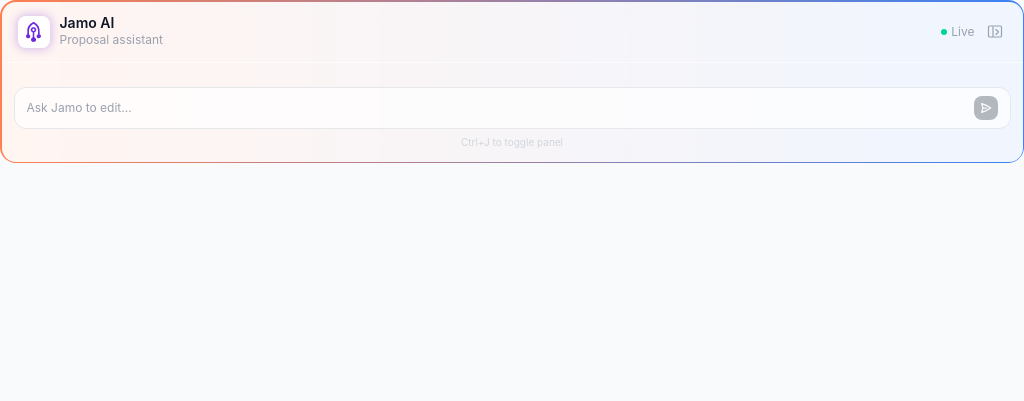
Test: AIChatPanel › renders tool-propose-edit placeholder card on tool_result event
// Submit a message to trigger streaming
Step 1. Type "Rewrite this section" into the field with placeholder "Ask Jamo to edit..." → [496, 108], box [26, 100, 966, 116]
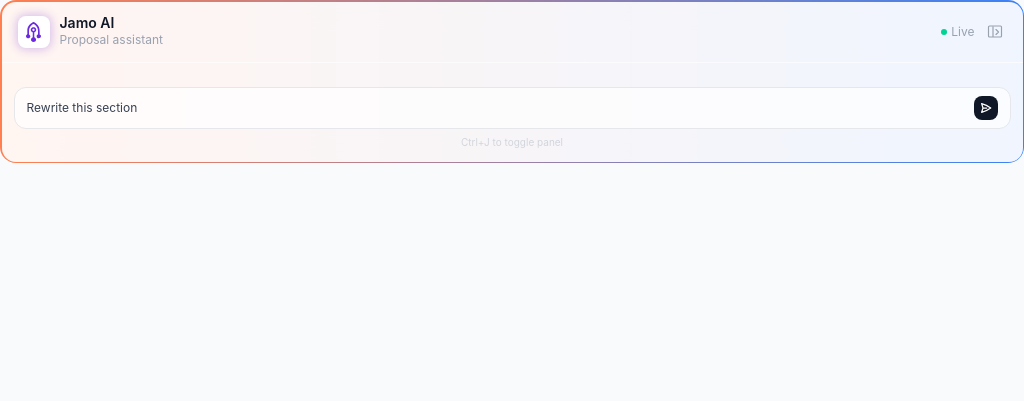
Step 2. Press Enter in the field with placeholder "Ask Jamo to edit...", box [26, 100, 966, 116]
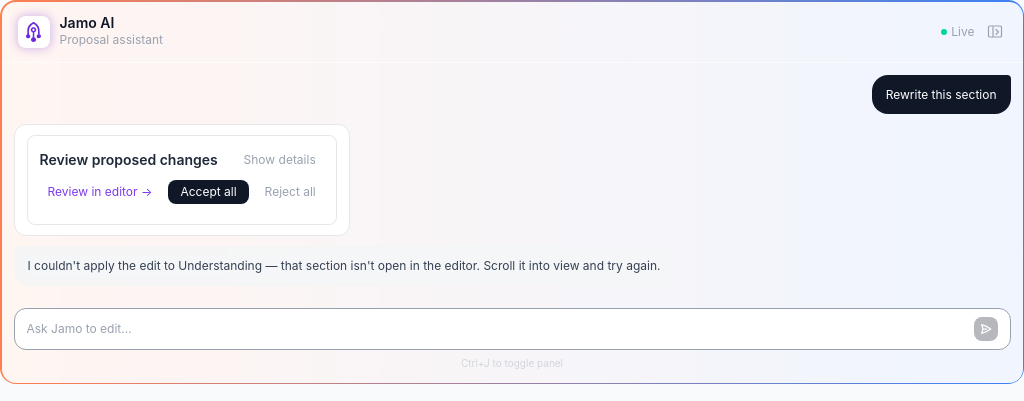
Now the text "Review proposed changes" is shown, box [40, 150, 218, 170]
